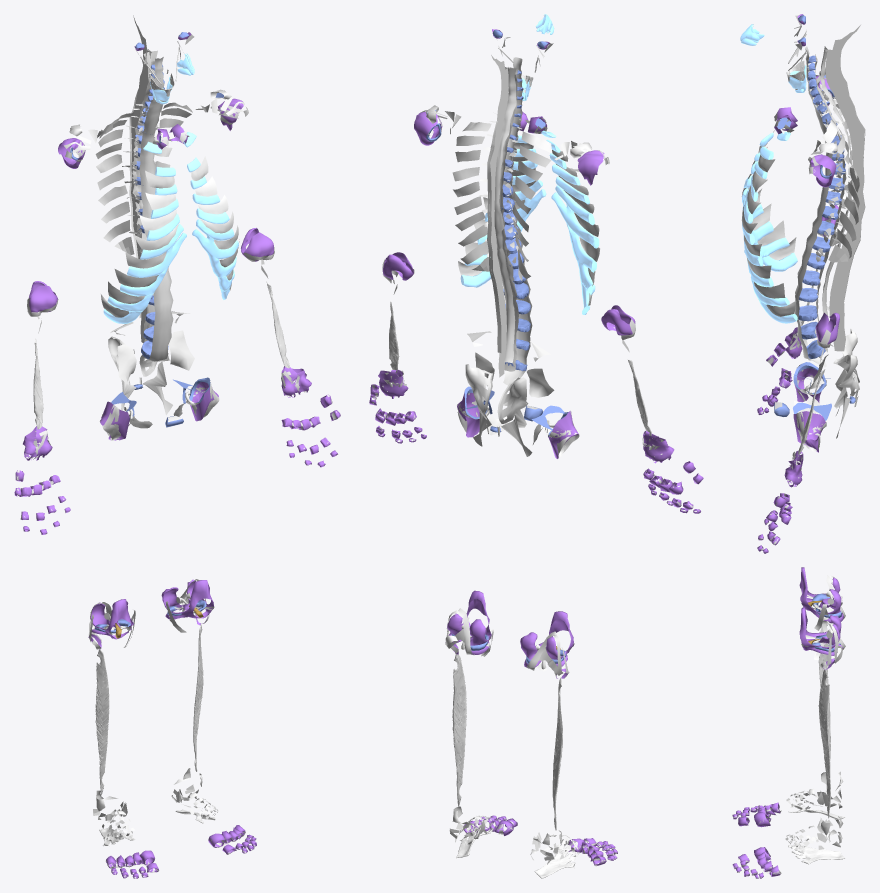
File: ligcart.glb
3 renders of one model, left to right at view 1: azimuth 30°, elevation 25°; view 2: azimuth 150°, elevation 25°; view 3: azimuth 270°, elevation 25°, orthographic. The views are drawn at different scales.
Visible parts, largest first — view 1: Anterior longitudinal ligament, External intercostal membrane.r, Internal intercostal membrane.r, External intercostal membrane.l, Interosseous membrane of leg.r, Articular capsule of knee joint.l, Interspinous ligaments, Articular capsule of knee joint.r, Articular capsule of elbow joint.l, Interosseous membrane of leg.l, Anterior sacro-iliac ligament.l, Articular capsule of elbow joint.r (+2 smaller); view 2: Internal intercostal membrane.l, Ligamenta flava, Interspinous ligaments, Internal intercostal membrane.r, Interosseous membrane of leg.l, Anterior longitudinal ligament, Posterior longitudinal ligament, Articular capsule of knee joint.l, Articular capsule of knee joint.r, External intercostal membrane.r, Supraspinous ligament, Posterior sacro-iliac ligament.r (+5 smaller); view 3: Interspinous ligaments, External intercostal membrane.l, Internal intercostal membrane.l, Anterior longitudinal ligament, Interosseous membrane of leg.l, External intercostal membrane.r, Articular capsule of knee joint.l, Articular capsule of knee joint.r, Ligamenta flava, Articular capsule of hip joint.l, Posterior longitudinal ligament, Long plantar ligament.l (+21 smaller).
Boxes of the visible parts, x1,y1,x2,y2 form: Anterior longitudinal ligament: [139, 57, 173, 363]; External intercostal membrane.r: [101, 170, 178, 317]; Internal intercostal membrane.r: [95, 113, 134, 254]; External intercostal membrane.l: [191, 156, 239, 290]; Interosseous membrane of leg.r: [95, 649, 109, 794]; Articular capsule of knee joint.l: [161, 579, 213, 619]; Interspinous ligaments: [131, 50, 150, 343]; Articular capsule of knee joint.r: [90, 599, 133, 639]; Articular capsule of elbow joint.l: [241, 228, 273, 261]; Interosseous membrane of leg.l: [193, 623, 203, 771]; Anterior sacro-iliac ligament.l: [168, 330, 194, 370]; Articular capsule of elbow joint.r: [29, 281, 57, 312]; Internal intercostal membrane.l: [452, 122, 491, 271]; Ligamenta flava: [494, 67, 516, 363]; Interspinous ligaments: [489, 67, 508, 377]; Internal intercostal membrane.r: [512, 131, 552, 280]; Interosseous membrane of leg.l: [452, 654, 466, 806]; Anterior longitudinal ligament: [503, 57, 532, 385]; Posterior longitudinal ligament: [499, 67, 518, 371]; Articular capsule of knee joint.l: [447, 590, 491, 654]; Articular capsule of knee joint.r: [520, 611, 573, 668]; External intercostal membrane.r: [552, 150, 599, 305]; Supraspinous ligament: [487, 121, 501, 352]; Posterior sacro-iliac ligament.r: [497, 377, 528, 423]; Interspinous ligaments: [825, 49, 864, 351]; External intercostal membrane.l: [741, 154, 796, 316]; Internal intercostal membrane.l: [822, 118, 859, 262]; Anterior longitudinal ligament: [795, 46, 832, 367]; Interosseous membrane of leg.l: [818, 668, 830, 818]; External intercostal membrane.r: [741, 130, 796, 260]; Articular capsule of knee joint.l: [799, 607, 843, 655]; Articular capsule of knee joint.r: [799, 567, 843, 623]; Ligamenta flava: [820, 46, 853, 342]; Articular capsule of hip joint.l: [793, 411, 826, 452]; Posterior longitudinal ligament: [815, 54, 846, 352]; Long plantar ligament.l: [788, 844, 844, 864].
Size of the model in its own units: 0.6665 by 1.58 by 0.2321.
